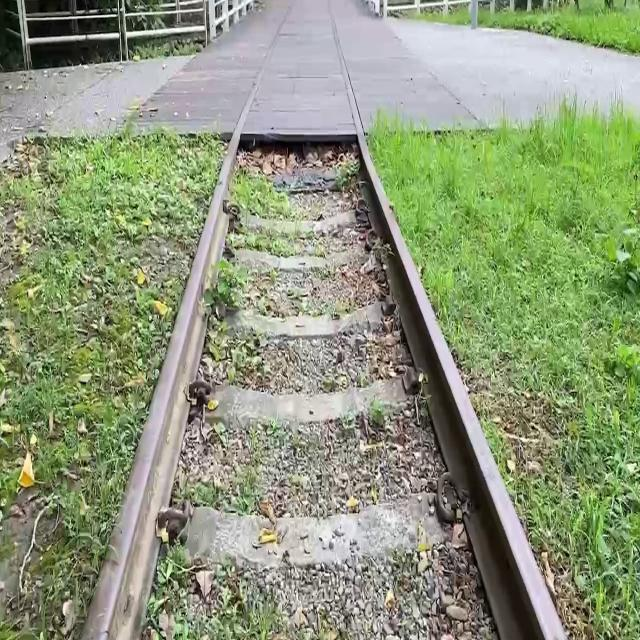rail: (57, 1, 595, 640)
